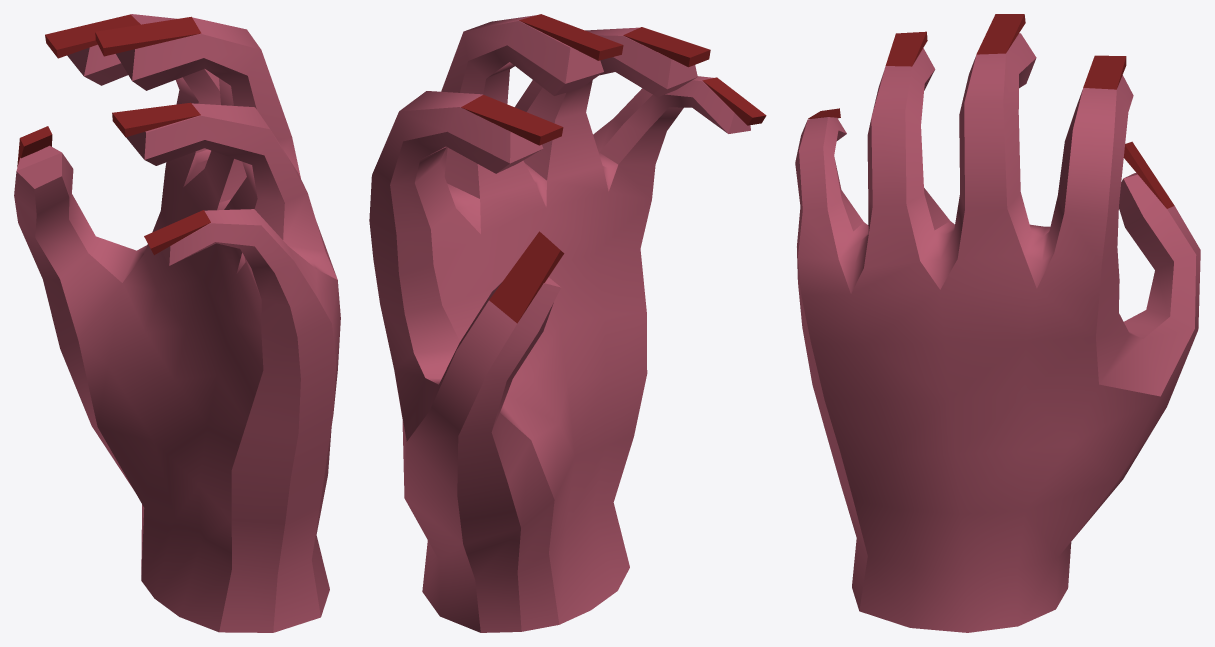
The model's file is hand_closed_L.fbx.
3 renders of one model, left to right at view 1: azimuth 30°, elevation 25°; view 2: azimuth 150°, elevation 25°; view 3: azimuth 270°, elevation 25°, orthographic. The views are drawn at different scales.
Parts seen in each view (by area): view 1: Hand_closed_L_mesh; view 2: Hand_closed_L_mesh; view 3: Hand_closed_L_mesh.
Boxes of the visible parts, <box> form: Hand_closed_L_mesh: <box>14,14,340,632</box>; Hand_closed_L_mesh: <box>369,14,766,632</box>; Hand_closed_L_mesh: <box>795,14,1200,632</box>.
Bounding box in the file's own units: 2.02 × 4.54 × 3.13.
